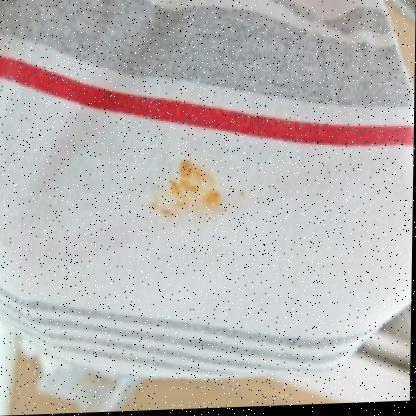kimchi: (144, 164, 225, 223)
